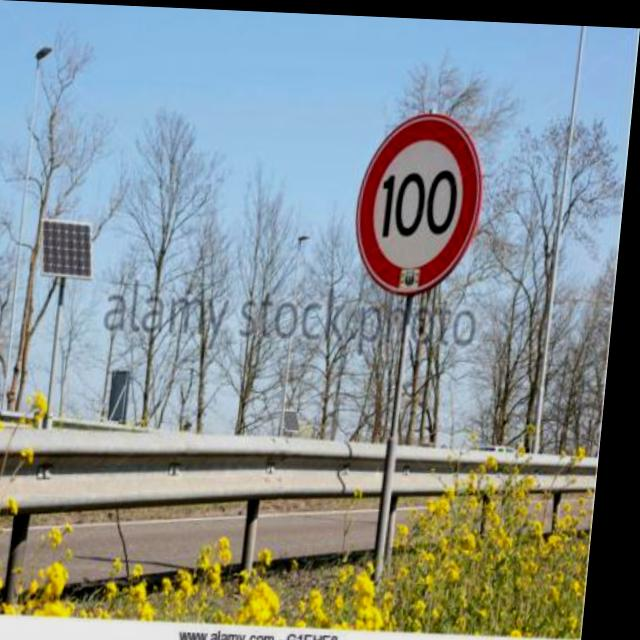limit100: (343, 99, 497, 298)
